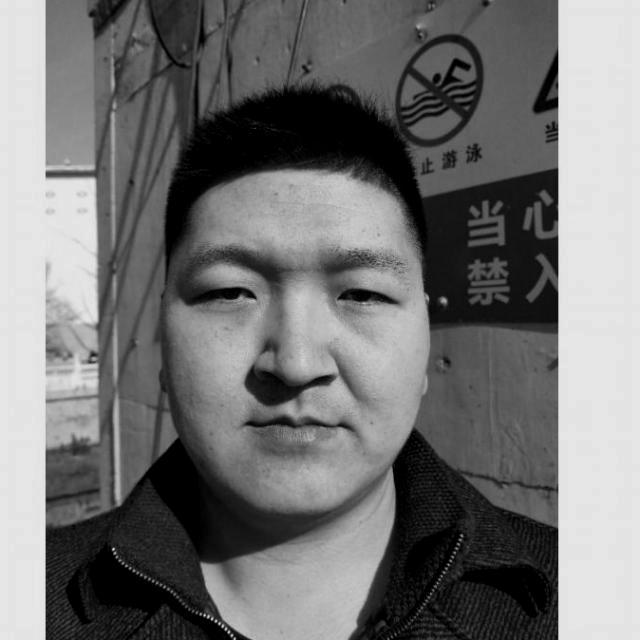real: (156, 89, 432, 515)
